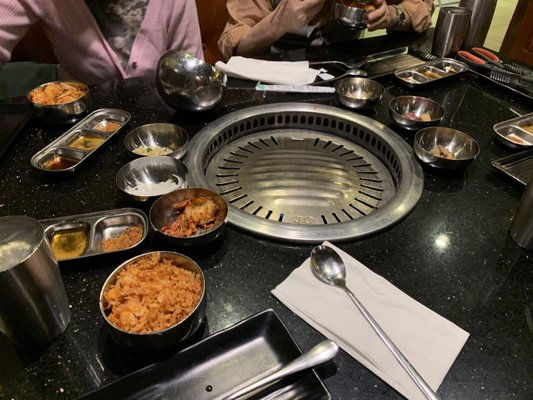sushi: (98, 251, 208, 350), (30, 107, 134, 176), (149, 187, 229, 253), (156, 50, 226, 113), (115, 155, 188, 203), (413, 126, 480, 172), (26, 80, 89, 123), (123, 122, 189, 161), (389, 95, 445, 132), (335, 75, 385, 113)
